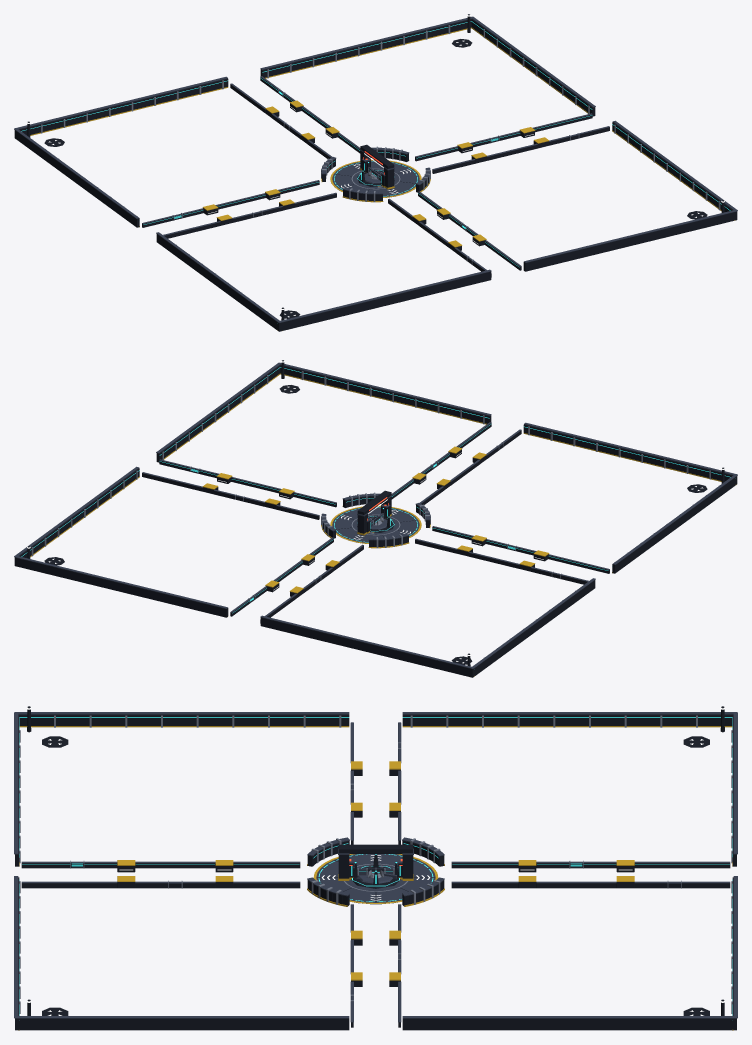
Rendered from core_siege.glb.
The picture shows the model from 3 angles, top to bottom: view 1: azimuth 30°, elevation 25°; view 2: azimuth 150°, elevation 25°; view 3: azimuth 270°, elevation 25°; orthographic projection. The views are drawn at different scales.
Visible parts, largest first — view 1: border, lanes, plaza, fortress, spawn_gate; view 2: border, lanes, plaza, fortress, spawn_gate; view 3: border, lanes, plaza, fortress, spawn_gate, core_base.
Boxes of the visible parts, left/top/right/bottom form: border: left=14, top=14, right=737, bottom=331; lanes: left=142, top=76, right=609, bottom=277; plaza: left=330, top=159, right=421, bottom=197; fortress: left=321, top=146, right=430, bottom=202; spawn_gate: left=359, top=144, right=394, bottom=189; border: left=14, top=360, right=737, bottom=677; lanes: left=142, top=422, right=609, bottom=623; plaza: left=330, top=505, right=421, bottom=543; fortress: left=321, top=492, right=430, bottom=548; spawn_gate: left=357, top=490, right=392, bottom=535; border: left=14, top=706, right=737, bottom=1030; lanes: left=21, top=722, right=730, bottom=1027; plaza: left=313, top=854, right=438, bottom=904; fortress: left=307, top=837, right=444, bottom=906; spawn_gate: left=338, top=844, right=413, bottom=880; core_base: left=351, top=854, right=400, bottom=888.
Size of the model in its own units: 162 by 9.4 by 162.
